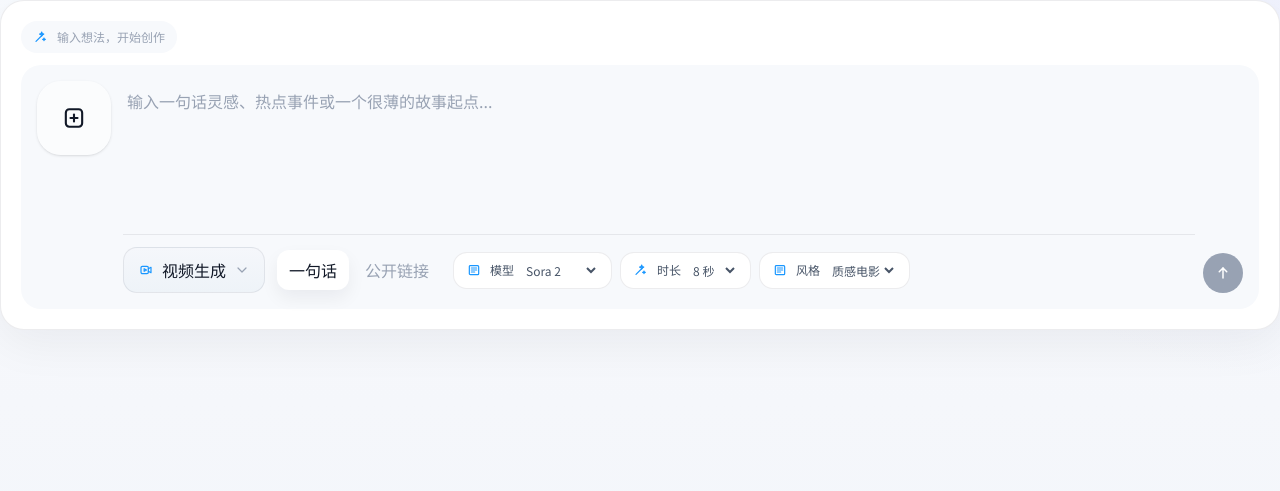
InputPanel › keeps the mode dropdown visible instead of clipping it inside the toolbar area
Click the button with aria-label "输入框创作模式". click: (194, 270)
box: [123,247,265,293]
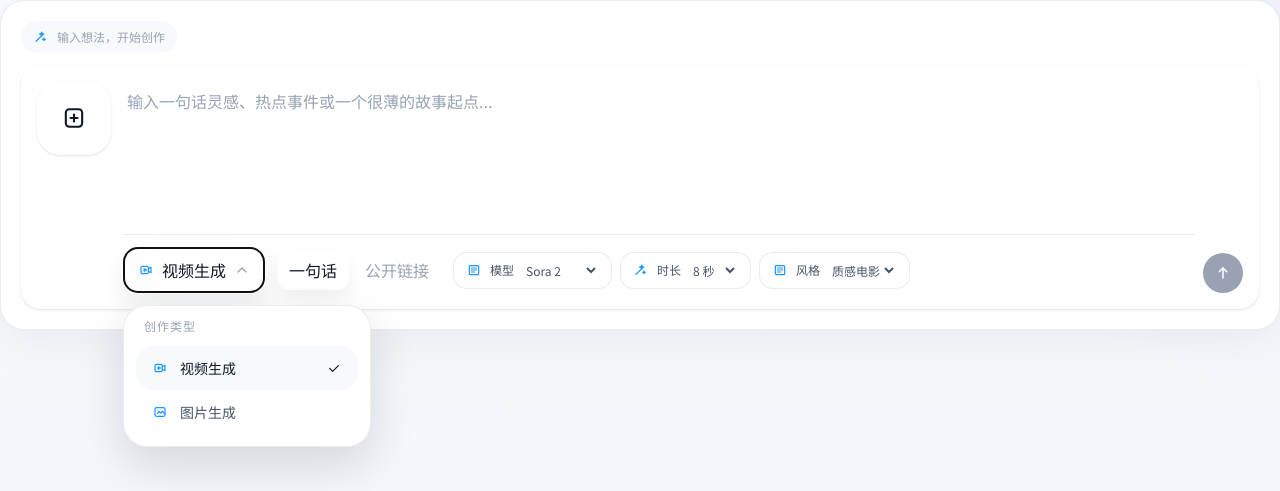
Expected: the menu item with aria-label "切换到视频生成" is shown, [136,346,358,390]
Expected: the menu item with aria-label "切换到图片生成" is shown, [136,390,358,434]
